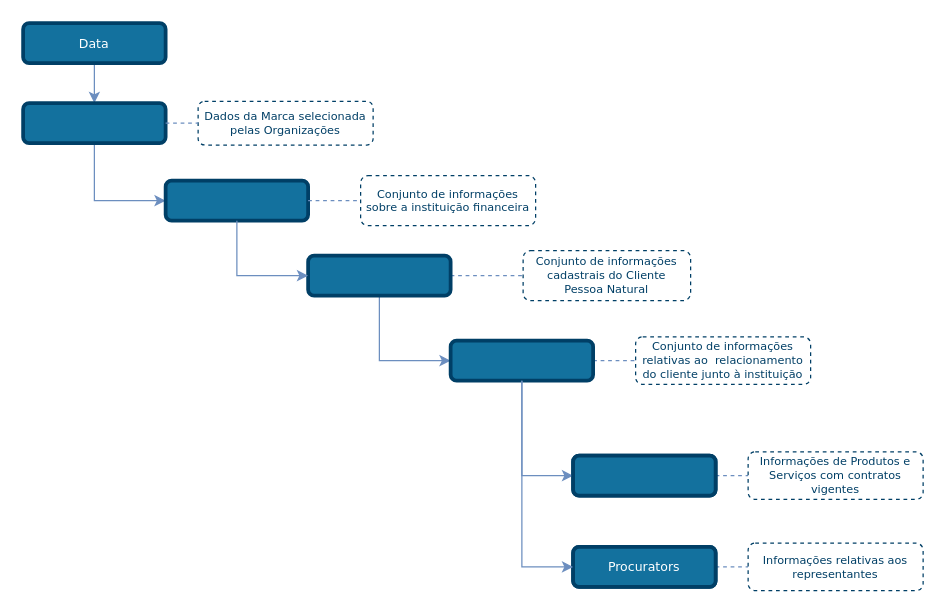
The diagram is 945 pixels wide and 613 high, and some of its shapes have lost their labels. The shapes that lost their labels are listed below. From the top down, each one's centre as x and y in pixels, then its label:
At [94,122]: "Brand".
At [236,200]: "Companies".
At [379,275]: "Personal Customers".
At [521,360]: "Financial Relation".
At [644,475]: "Products Services".
